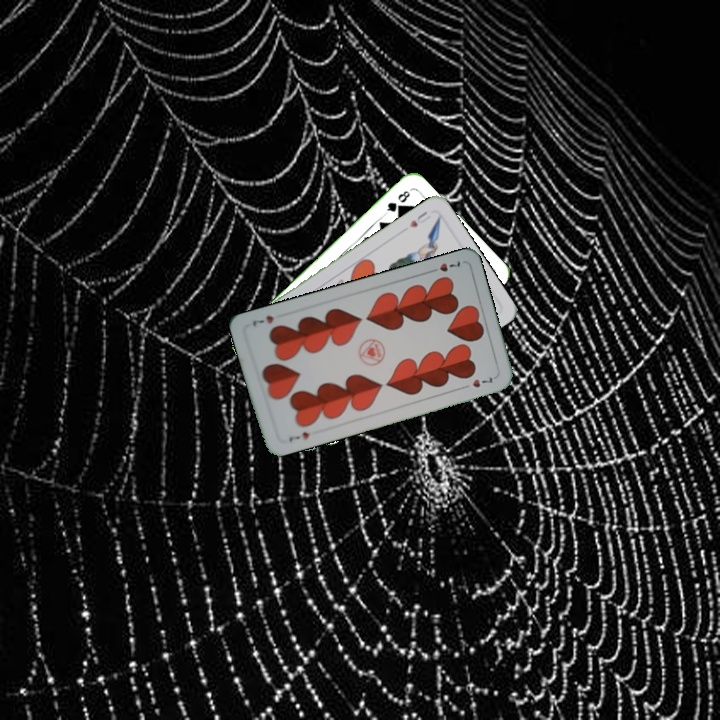G8: (381, 186, 413, 217)
H7: (425, 256, 463, 276), (285, 428, 312, 444)
HU: (405, 207, 433, 230)
